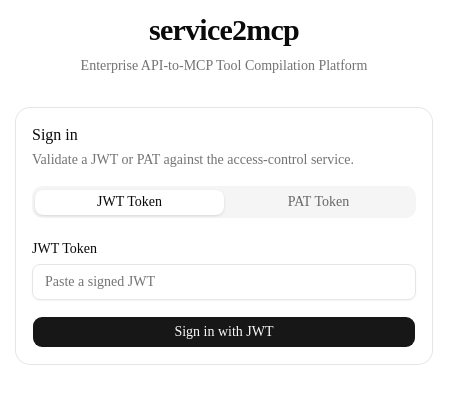
Test: LoginPage › clears error when switching between JWT and PAT tabs
Trigger an error on JWT tab
Type "bad-token" into the password field labelled "JWT Token" at (224, 282), box [32,264,416,300]
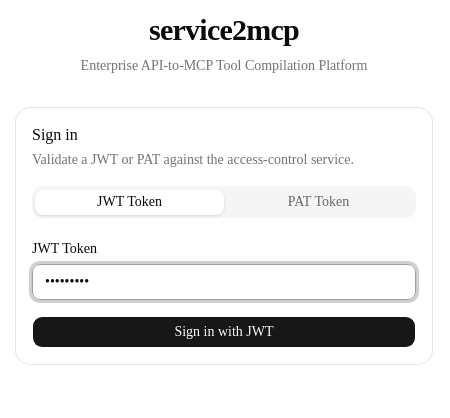
Click the button "Sign in with JWT" at (224, 332), box [32,316,416,348]
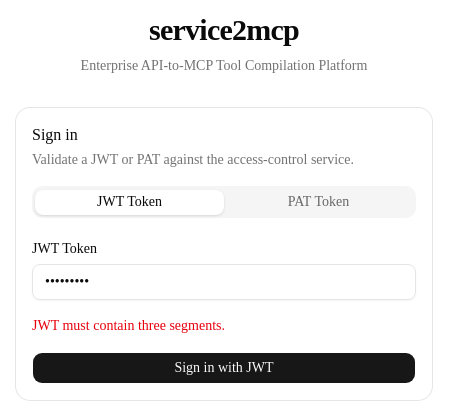
Result: the text "JWT must contain three segments." is shown at [32,318,225,333]
Switch to PAT tab — error should clear
Click the tab "PAT Token" at (318, 202), box [224,190,413,214]
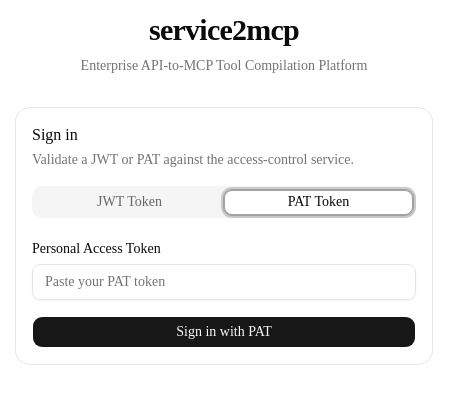
Result: the text "JWT must contain three segments." is gone
